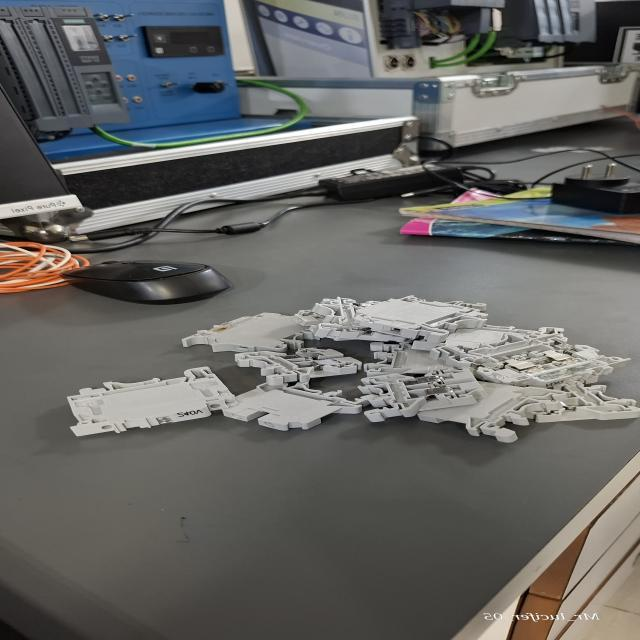Inverted: (217, 383, 365, 431)
Pass: (358, 360, 486, 426), (232, 337, 364, 387)
